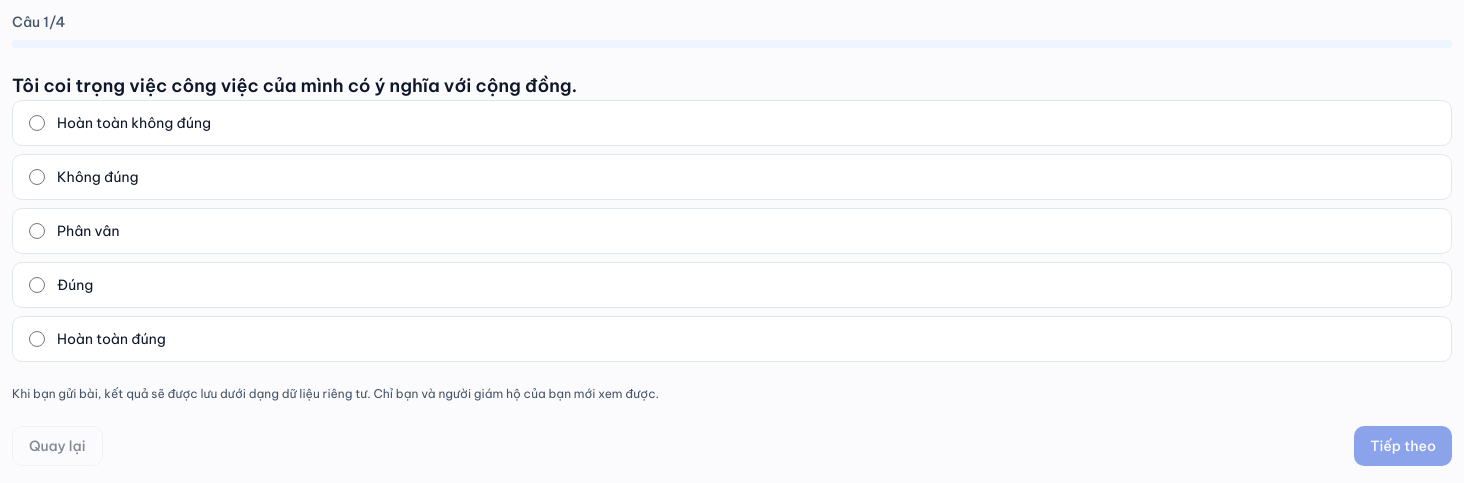
Test: AssessmentRunner (FR-10/11, a11y) › announces progress and disables Next until the item is answered
This screenshot has width=1464, height=483.
Check: the text with test id "runner-progress" shows "1/4", box [12, 13, 66, 31]
Check: the button "Tiếp theo" is disabled, box [1354, 426, 1452, 466]
Click the radio button labelled "Đúng" at (37, 285), box [29, 277, 45, 293]
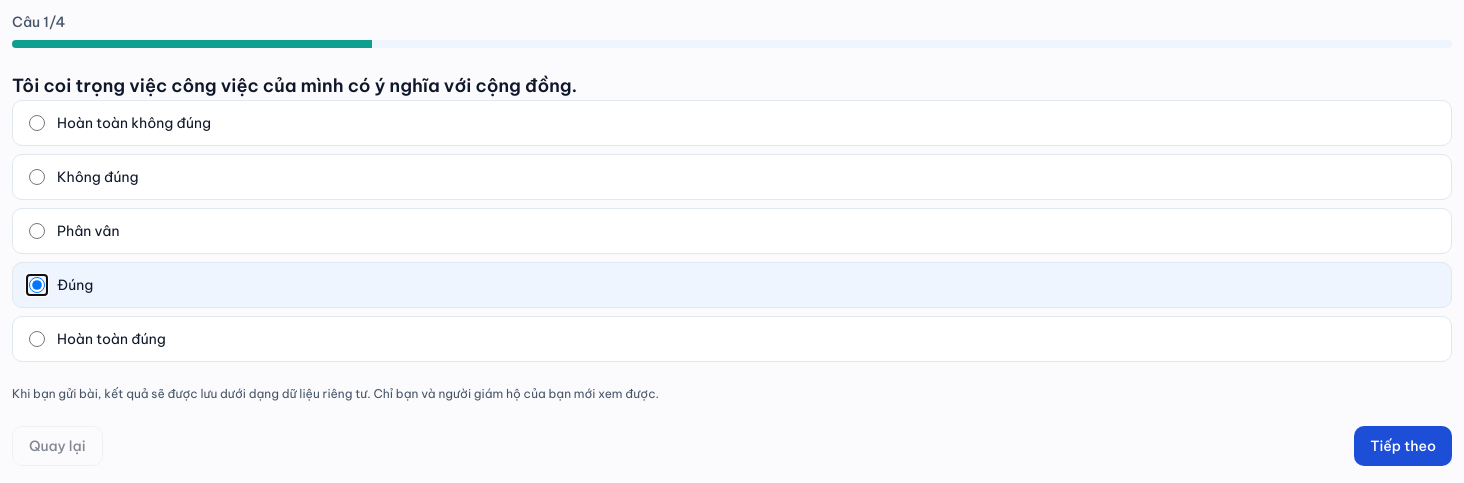
Check: the button "Tiếp theo" is enabled, box [1354, 426, 1452, 466]
